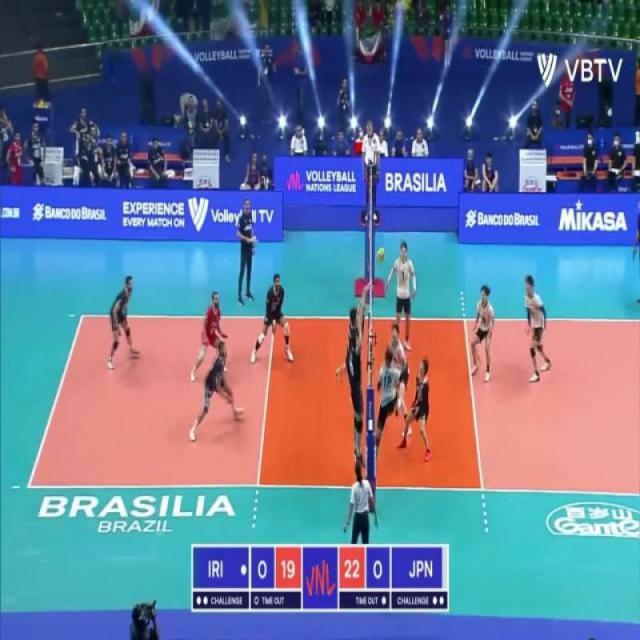volleyball: (378, 246, 386, 264), (36, 98, 45, 109)
